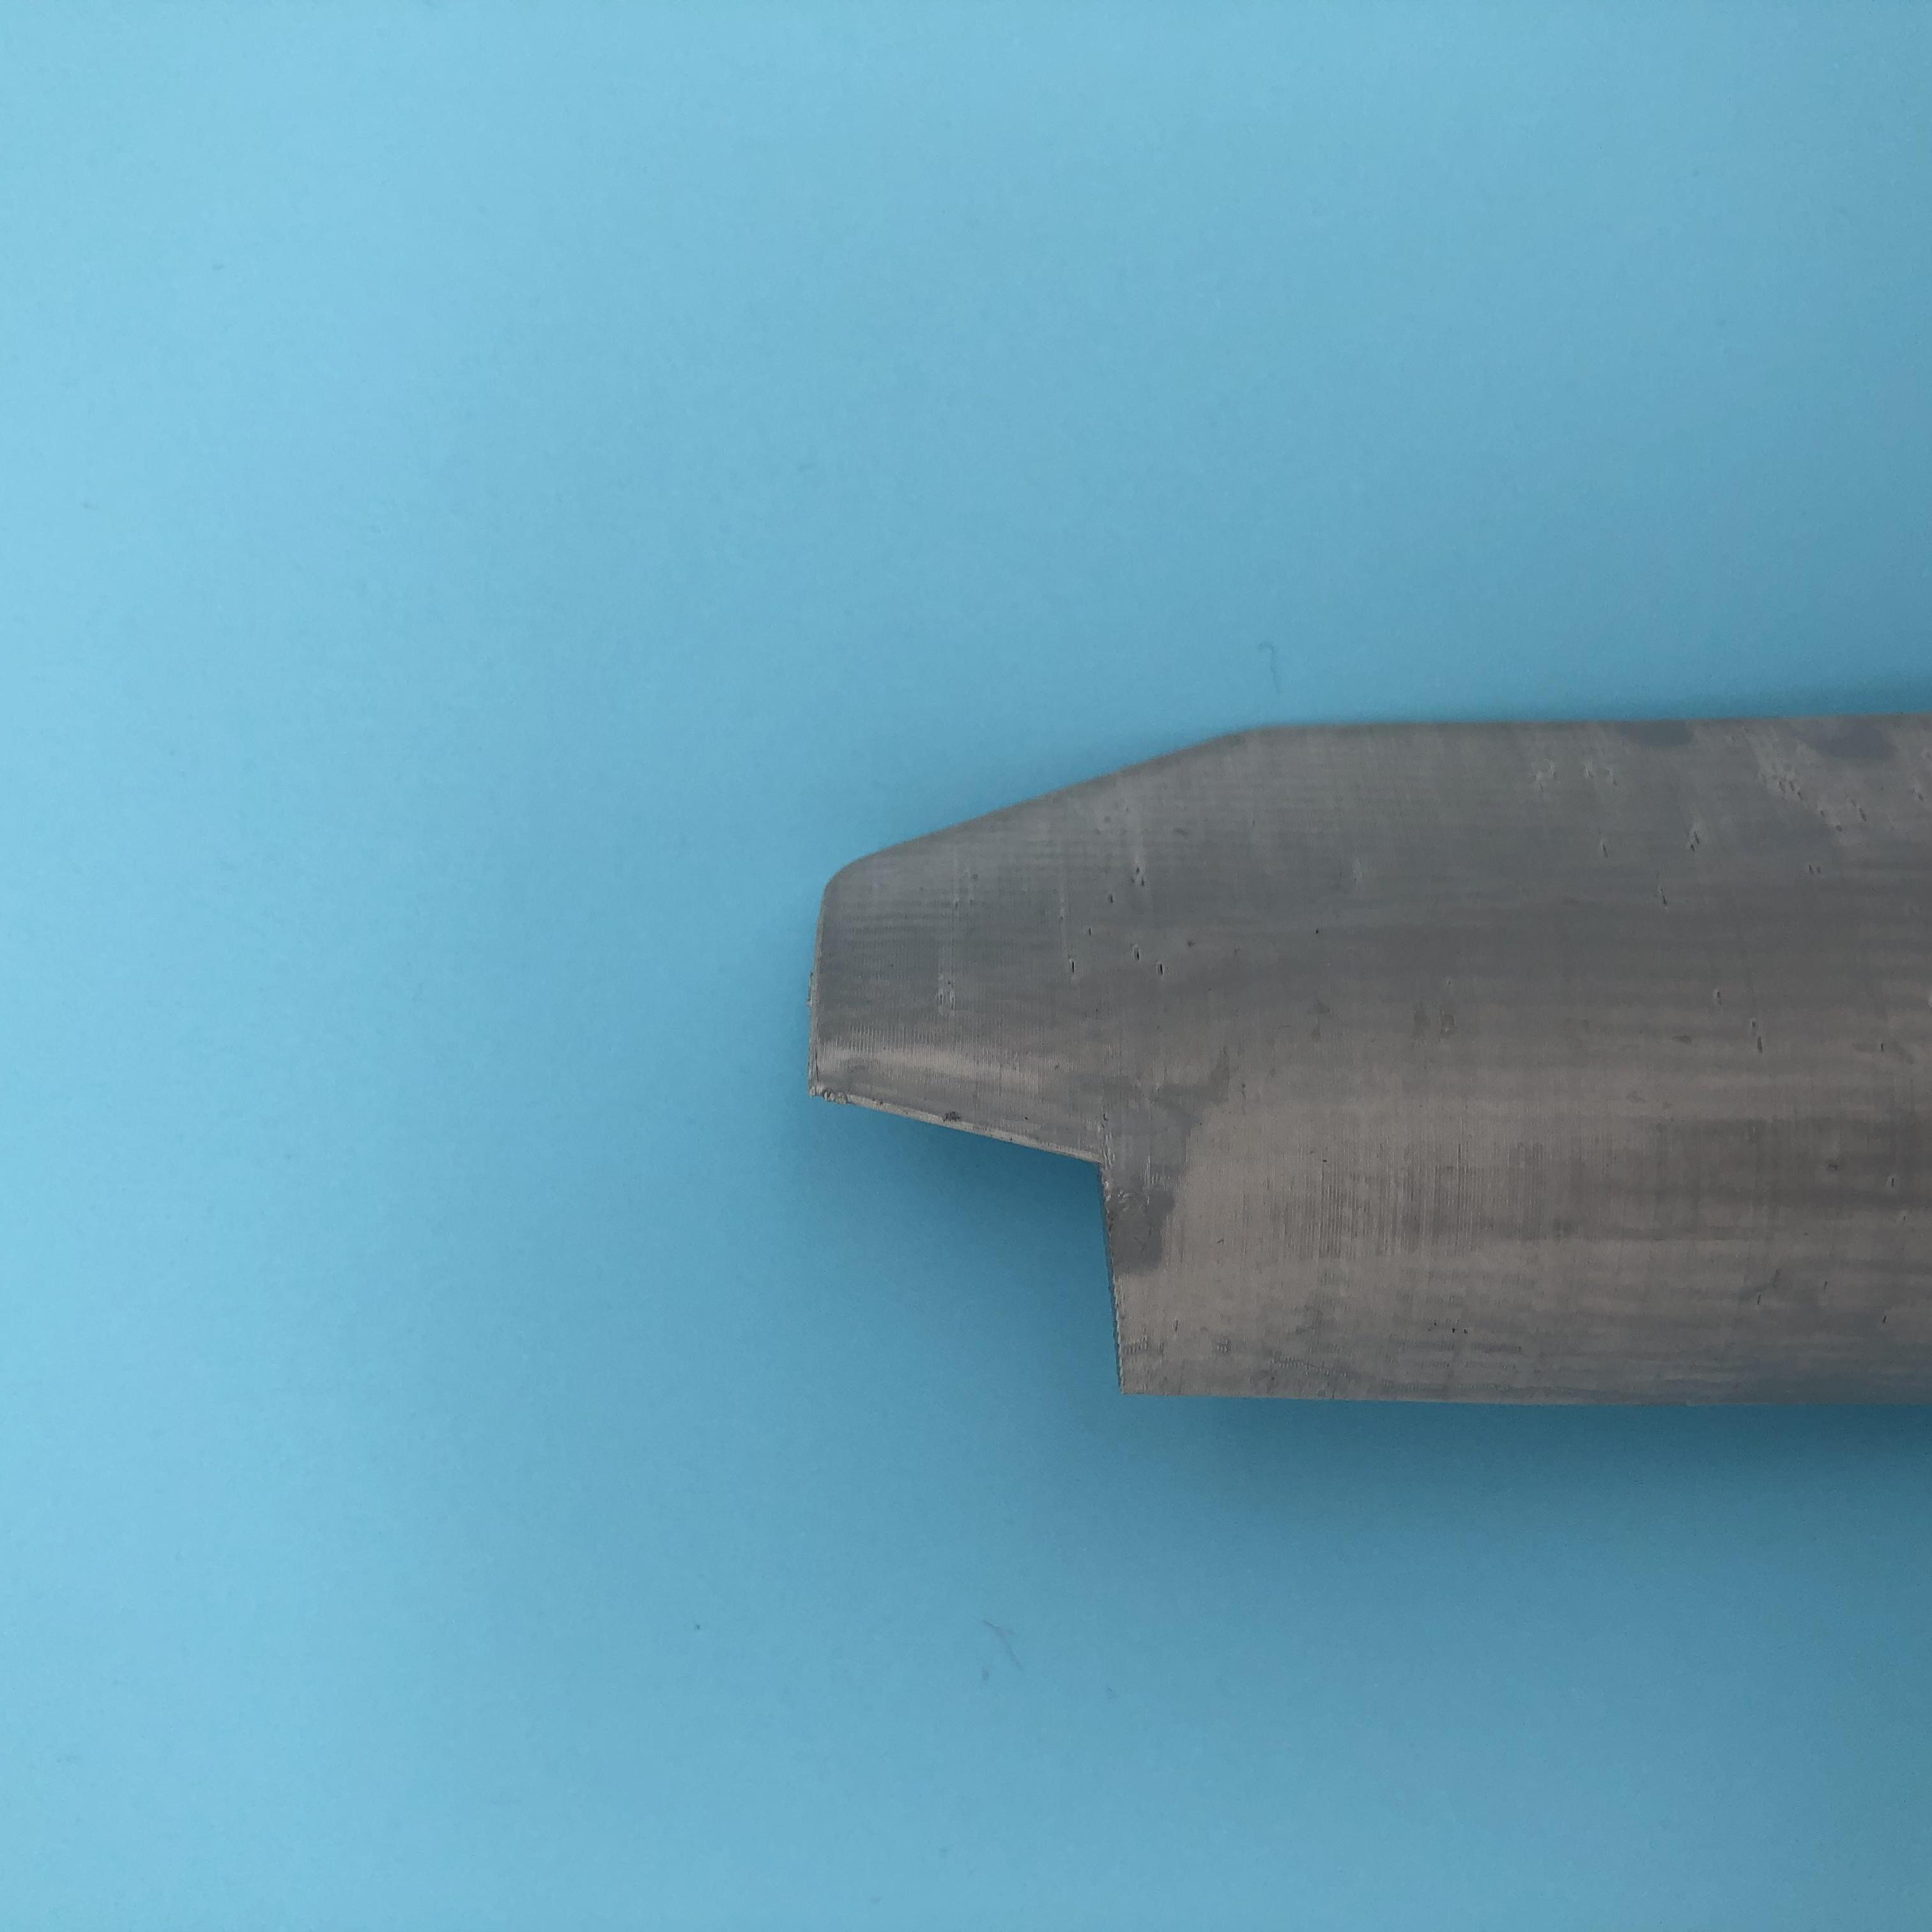fracture: (809, 1065, 1143, 1382)
